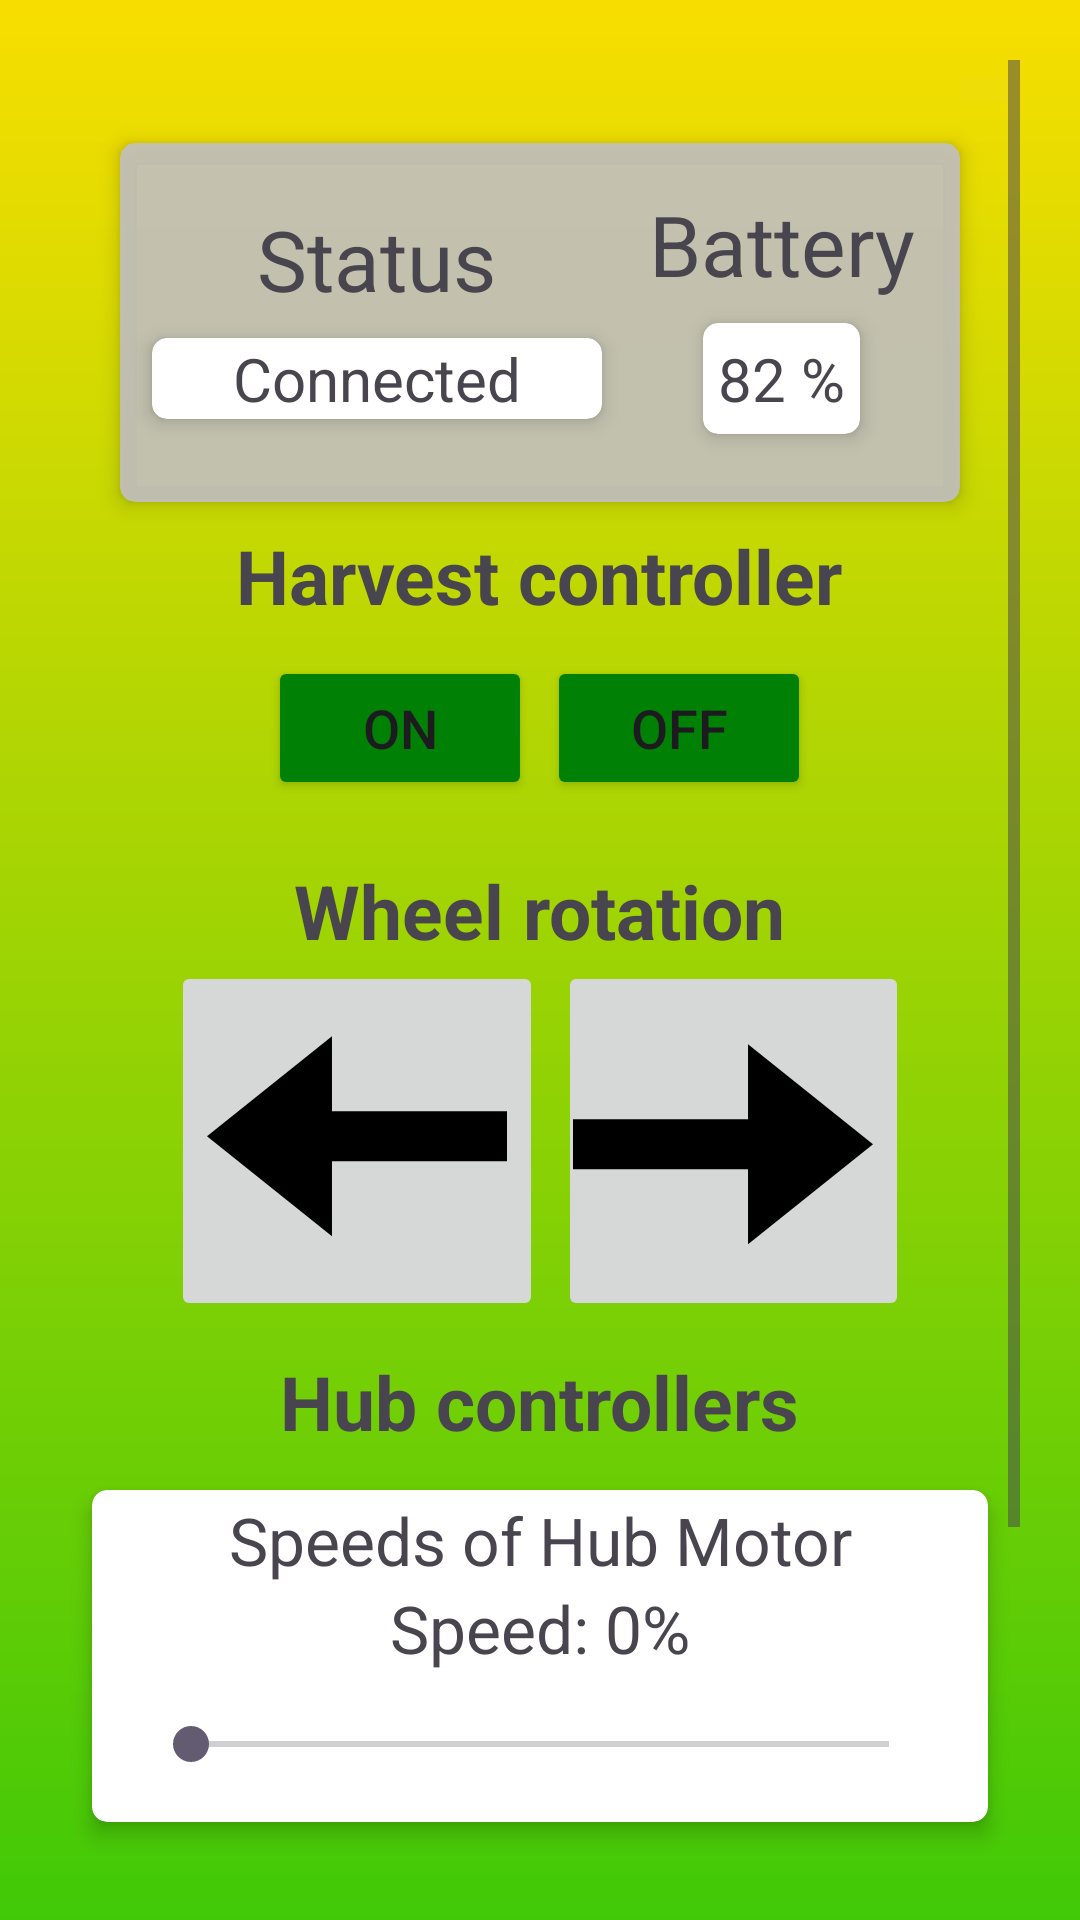

Icon click points for this 1080w x 1920h phone screenshot, format (x,y):
right arrow: (733,1141)
